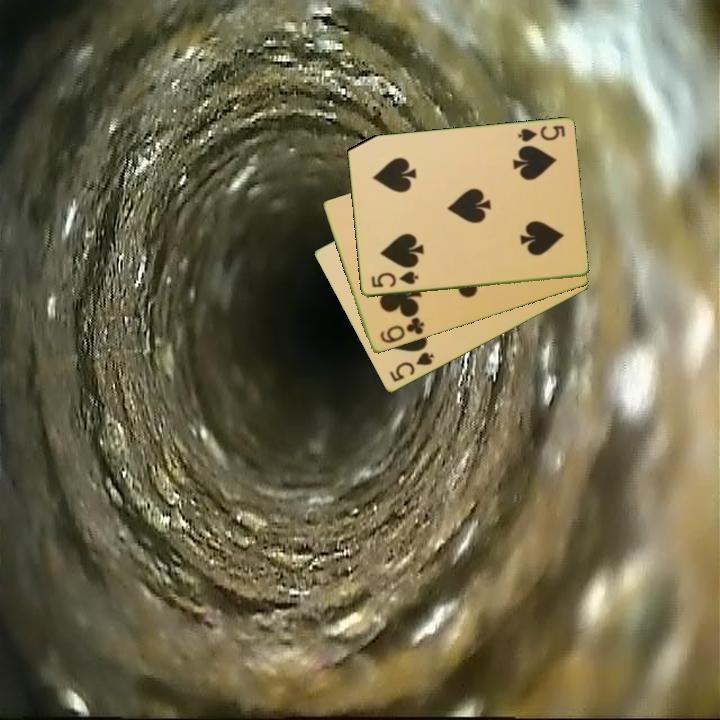5s: (386, 348, 437, 385), (367, 268, 421, 291), (514, 122, 568, 145)
6c: (376, 314, 427, 347)
